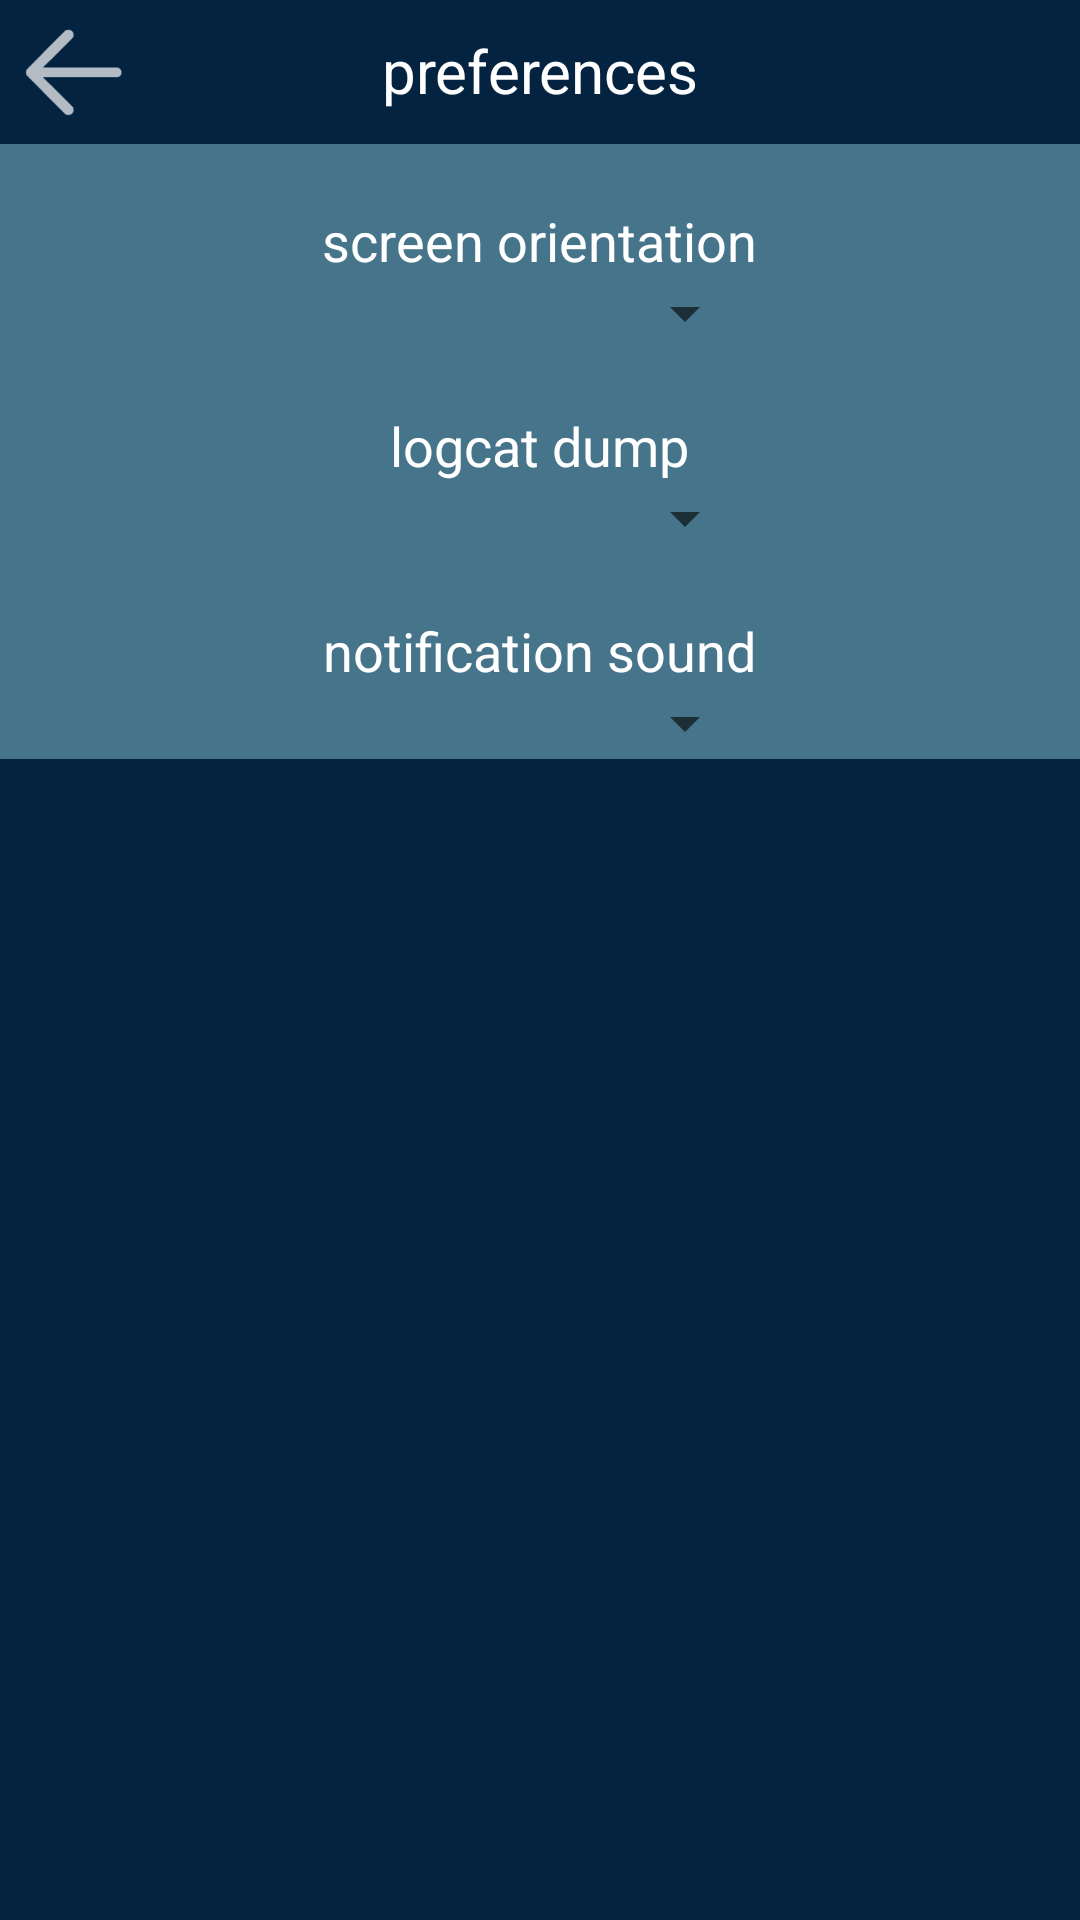

Point at icon controls on the screen. Image size 1080*1920, points as [x,y].
arrow left wite: [74,72]
